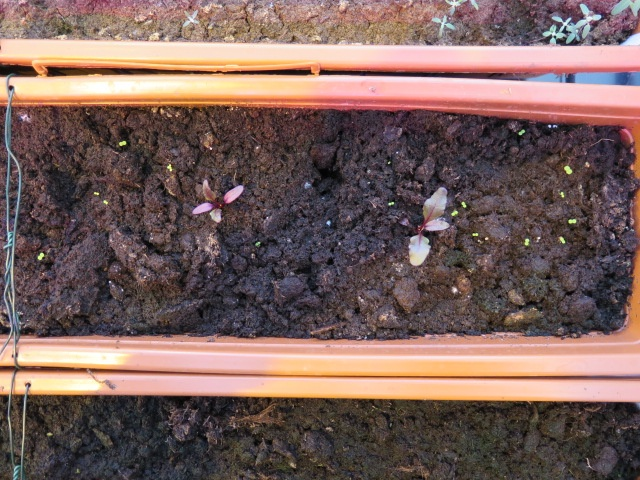crop: (406, 185, 454, 268), (187, 177, 246, 228)
weed: (177, 7, 204, 28), (115, 137, 130, 150), (35, 248, 46, 263), (562, 162, 573, 177), (521, 232, 531, 248), (515, 126, 527, 139), (164, 160, 174, 175), (557, 186, 565, 202), (564, 216, 578, 225), (558, 233, 567, 247), (252, 237, 263, 248), (469, 229, 480, 239), (100, 196, 109, 207), (459, 197, 466, 210), (385, 200, 395, 207), (92, 188, 99, 197)
